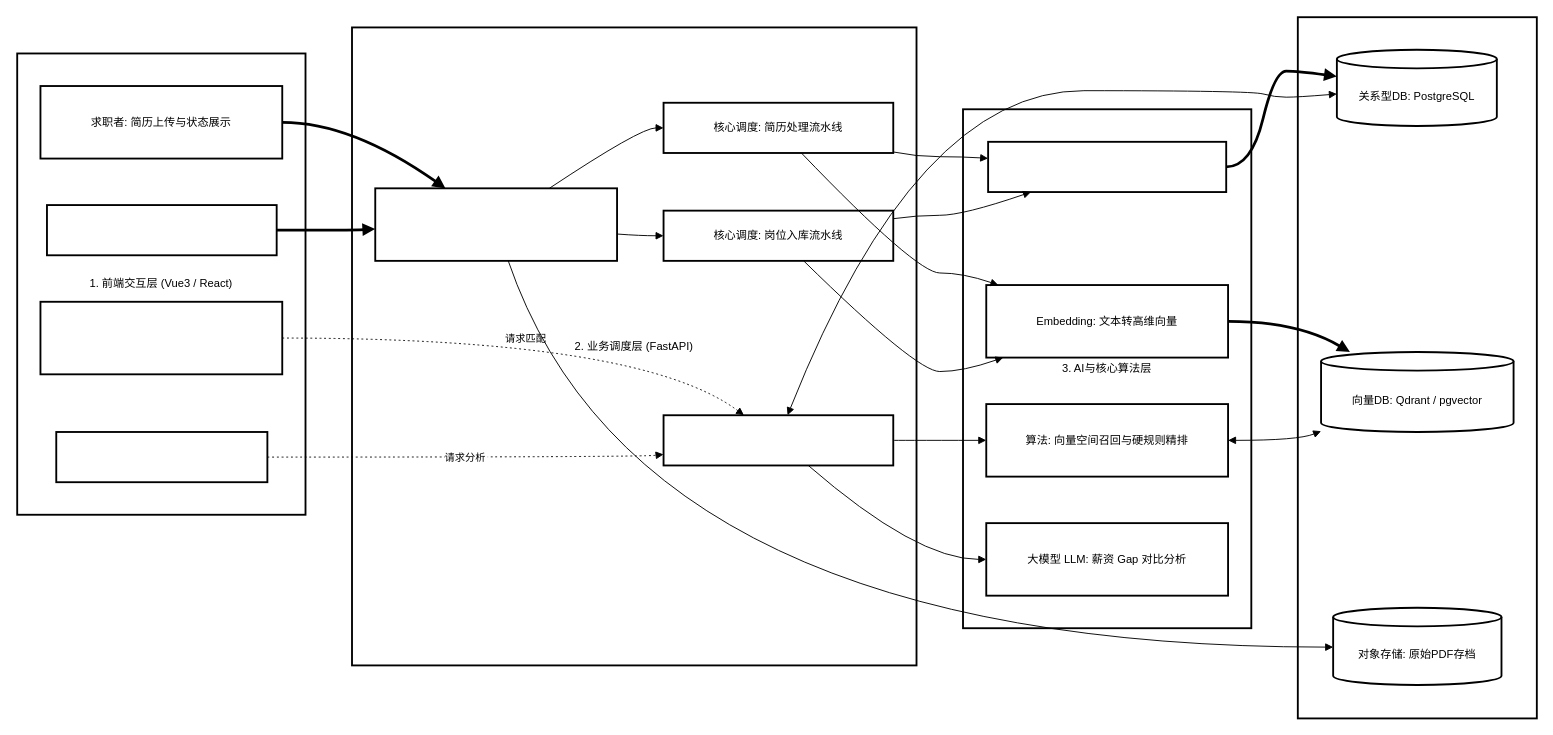
This 1553x735 diagram has some shape labels left out. Each missing label, with the centre of its shape:
"基础网关: JWT鉴权与文件存储" belongs at [496,224].
"大模型 LLM: 提取标准 JSON" belongs at [1107,166].
"核心调度: 匹配算分与分析" belongs at [778,440].
"求职者: 匹配岗位列表与详情" belongs at [161,337].
"求职者: 薪资Gap雷达图" belongs at [161,457].
"管理员: 岗位数据批量导入" belongs at [161,230].
